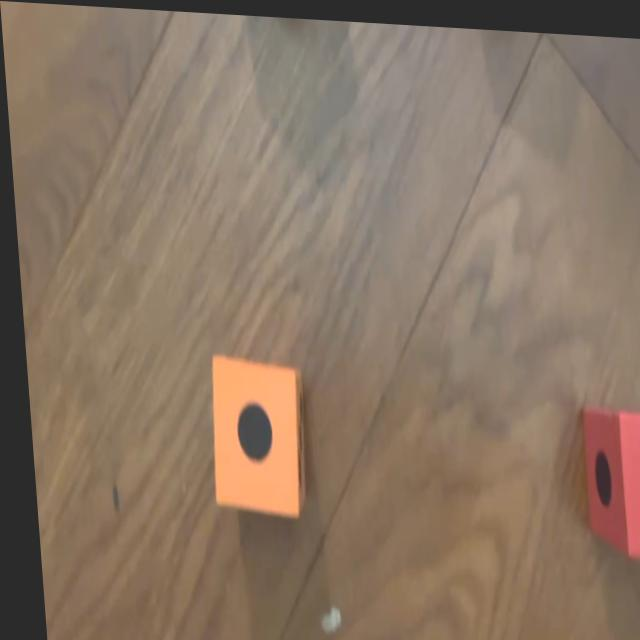cube: (575, 399, 640, 553)
